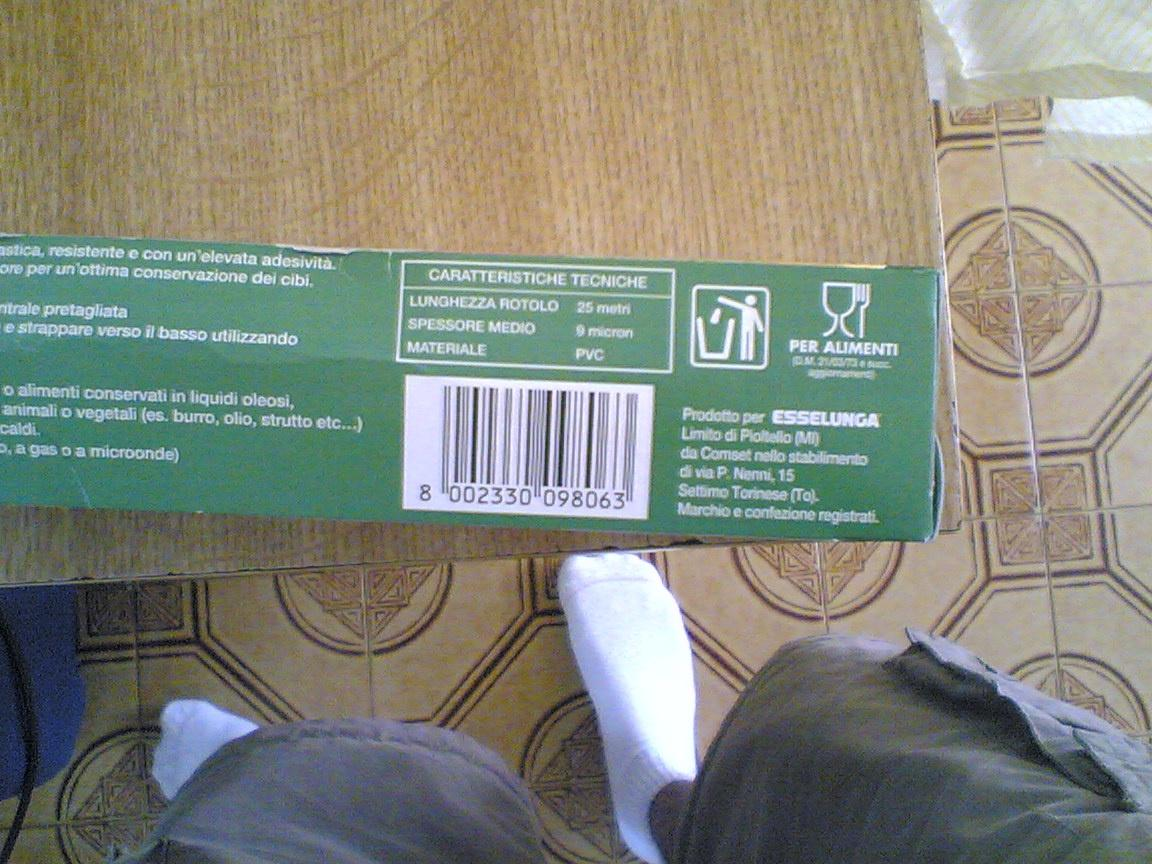Barcode: (402, 376, 654, 524)
